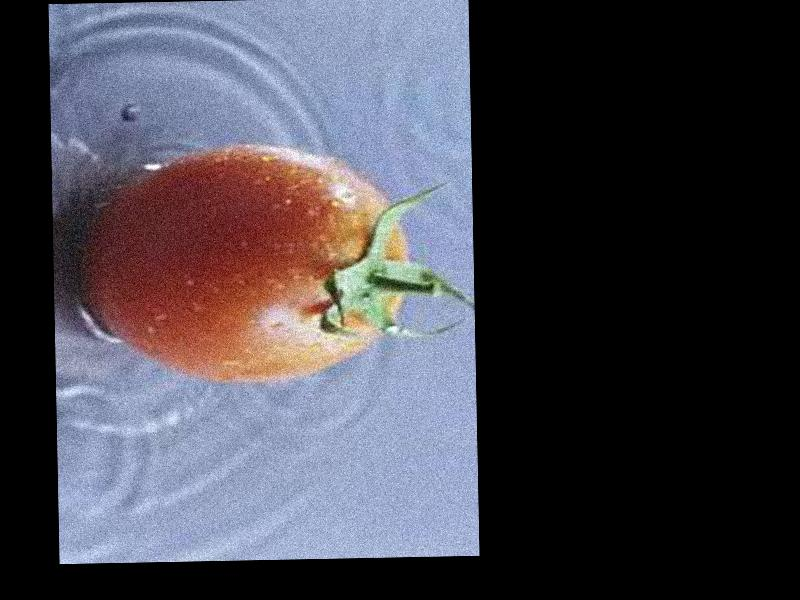Tomato: (79, 144, 408, 384)
